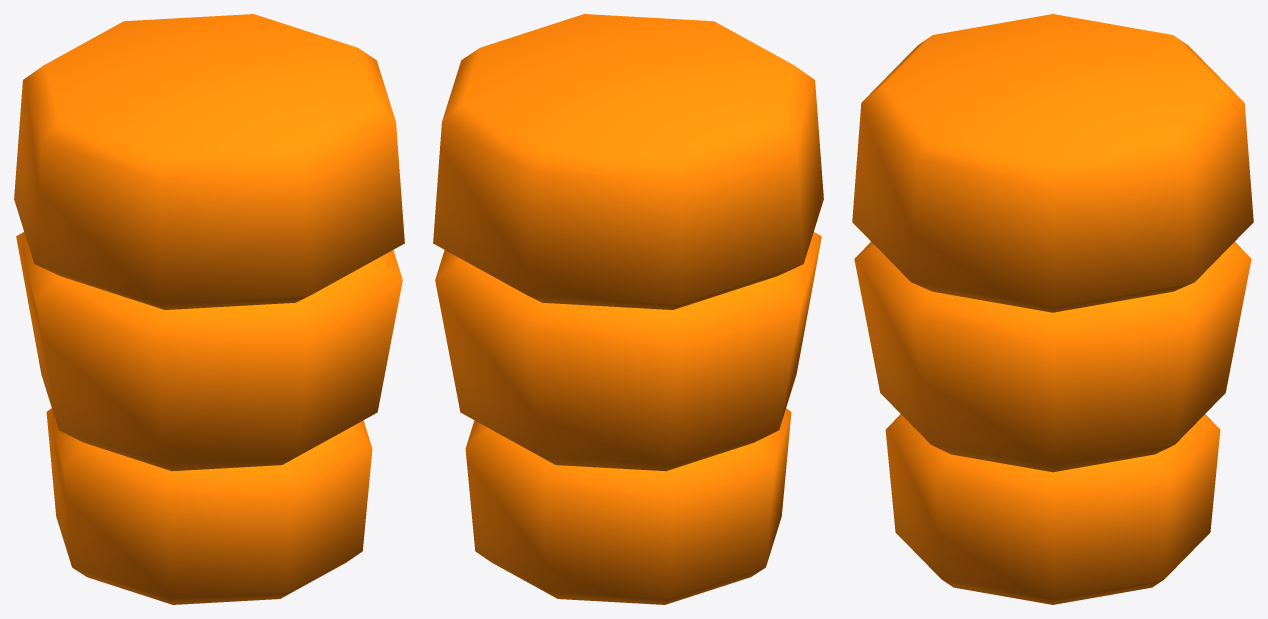
File: bronze_grip_100.glb
The picture shows the model from 3 angles, left to right: view 1: azimuth 30°, elevation 25°; view 2: azimuth 150°, elevation 25°; view 3: azimuth 270°, elevation 25°; orthographic projection.
Visible parts, largest first — view 1: bronze_grip_100; view 2: bronze_grip_100; view 3: bronze_grip_100.
Part boxes in pixels (box(x1,y1,x2,y2)): bronze_grip_100: box(14, 14, 404, 604); bronze_grip_100: box(433, 14, 823, 604); bronze_grip_100: box(852, 14, 1253, 604).
Size of the model in its own units: 2.37 by 3 by 2.37.
Materials: 1 (1 with a texture image).
